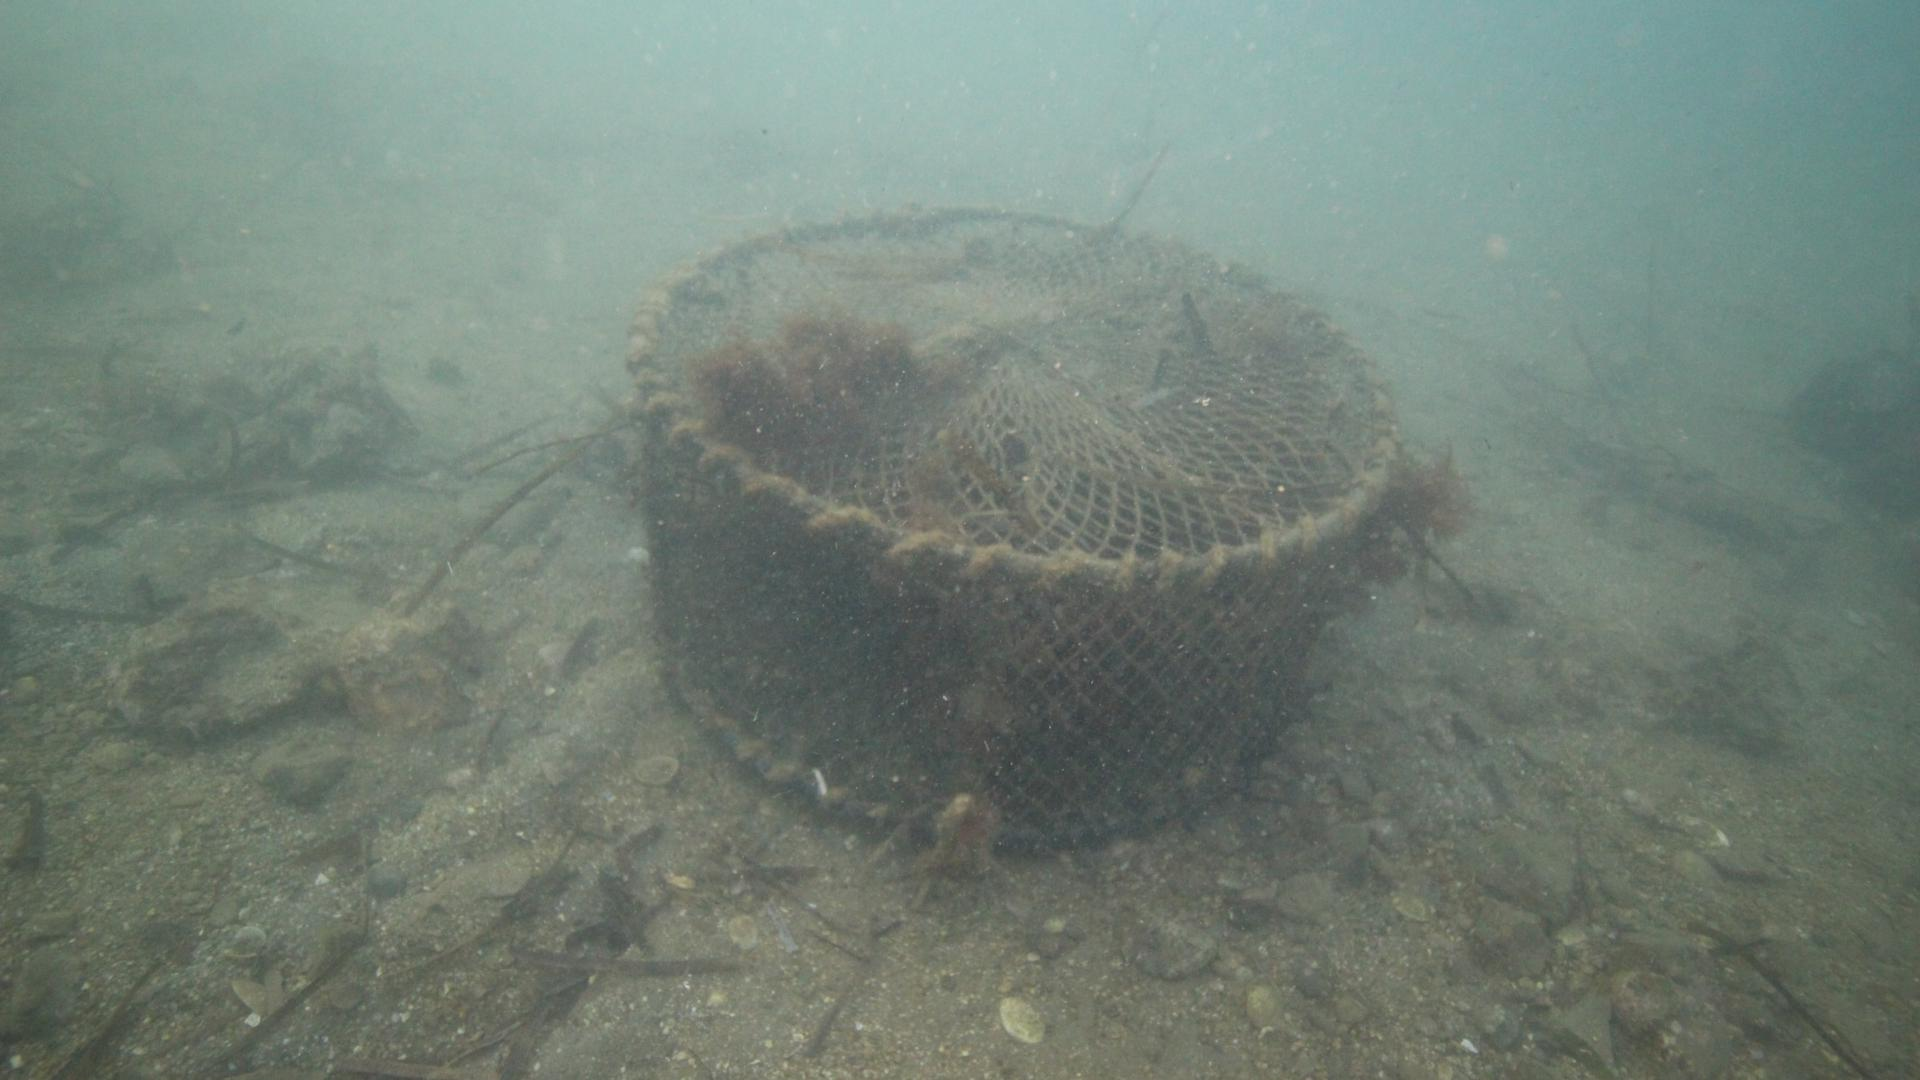circular fish trap: (621, 207, 1403, 852)
